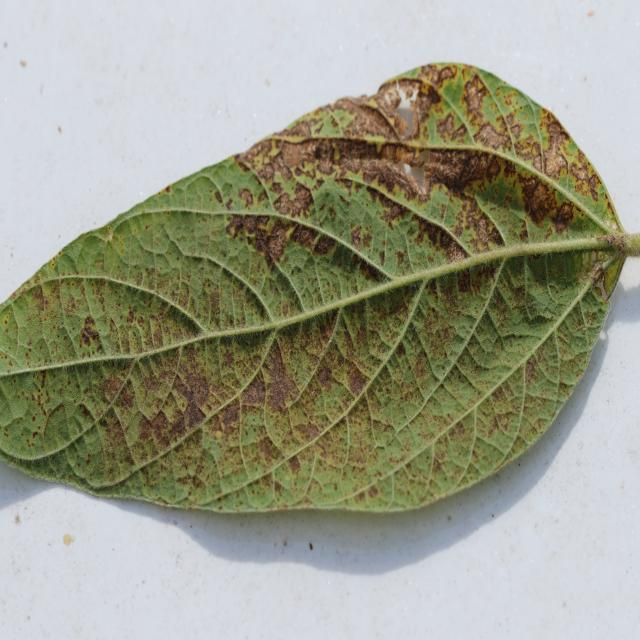Bacterial_Blight: (113, 325, 288, 476), (233, 308, 369, 498), (410, 386, 493, 496), (404, 275, 483, 382), (306, 182, 378, 263), (340, 156, 420, 203), (234, 211, 300, 265), (118, 192, 177, 252), (467, 168, 524, 230), (426, 145, 495, 193), (141, 255, 197, 313), (24, 374, 65, 441), (519, 172, 563, 227), (457, 200, 504, 250), (345, 101, 403, 141), (268, 175, 315, 220), (236, 138, 286, 177), (253, 154, 300, 194), (520, 277, 558, 321), (541, 123, 573, 175), (277, 138, 323, 172), (366, 138, 418, 167), (101, 412, 131, 456), (595, 254, 624, 297), (569, 162, 600, 198), (475, 121, 511, 152), (145, 408, 173, 447), (514, 131, 545, 163), (462, 76, 488, 114), (329, 109, 360, 133), (78, 316, 100, 348), (345, 369, 368, 398), (103, 375, 126, 402), (435, 113, 458, 138), (456, 269, 477, 295), (445, 241, 467, 264), (419, 64, 443, 85), (587, 261, 608, 285), (31, 283, 48, 312), (225, 214, 246, 237), (314, 365, 334, 389), (383, 88, 402, 110), (77, 403, 95, 424), (104, 224, 119, 249), (437, 65, 457, 83), (237, 187, 254, 207), (525, 358, 539, 381), (599, 234, 619, 250), (50, 250, 63, 270), (509, 122, 523, 140), (125, 305, 137, 325), (420, 80, 432, 97), (2, 310, 12, 328), (39, 370, 48, 390), (213, 190, 224, 204), (162, 184, 171, 194), (50, 258, 56, 270), (3, 427, 9, 438), (32, 431, 39, 440), (157, 188, 164, 196), (86, 453, 91, 463)
Soybean: (0, 62, 640, 518)
